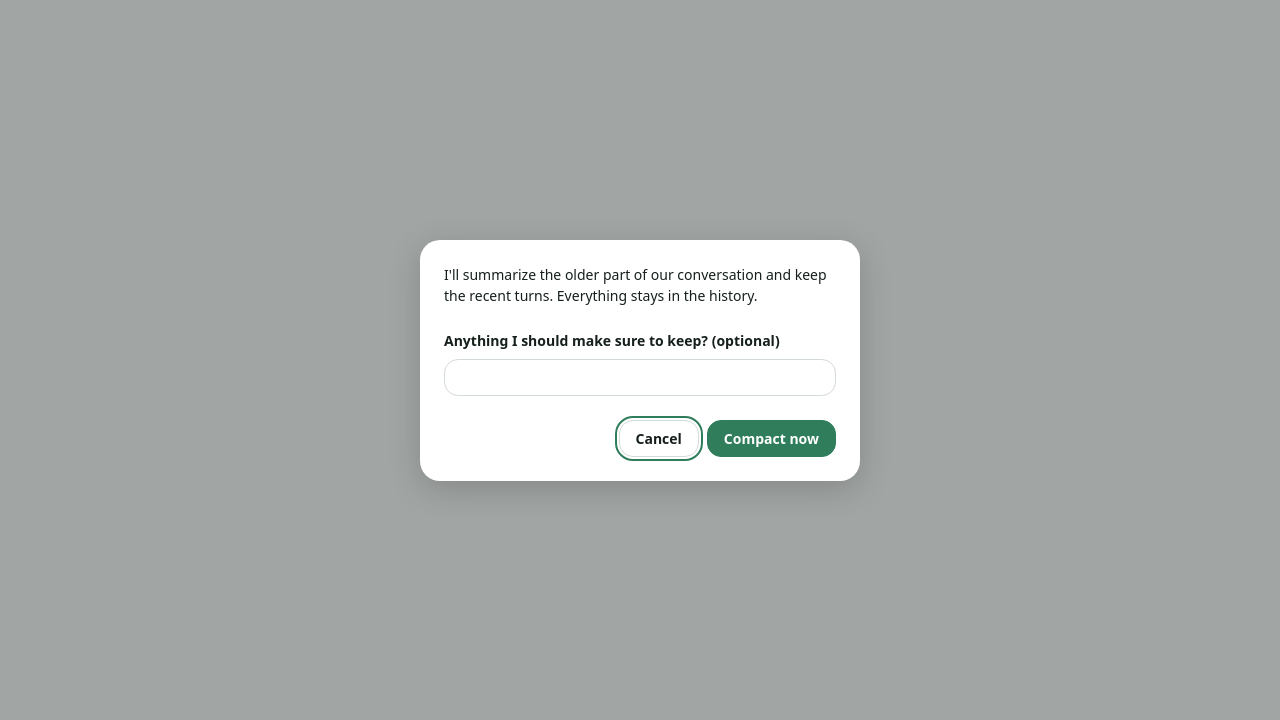
CompactNow › sends no note when none is typed, and says when there is nothing to compact or it failed
Click the button "Compact now" at (771, 438), box [707, 420, 836, 456]
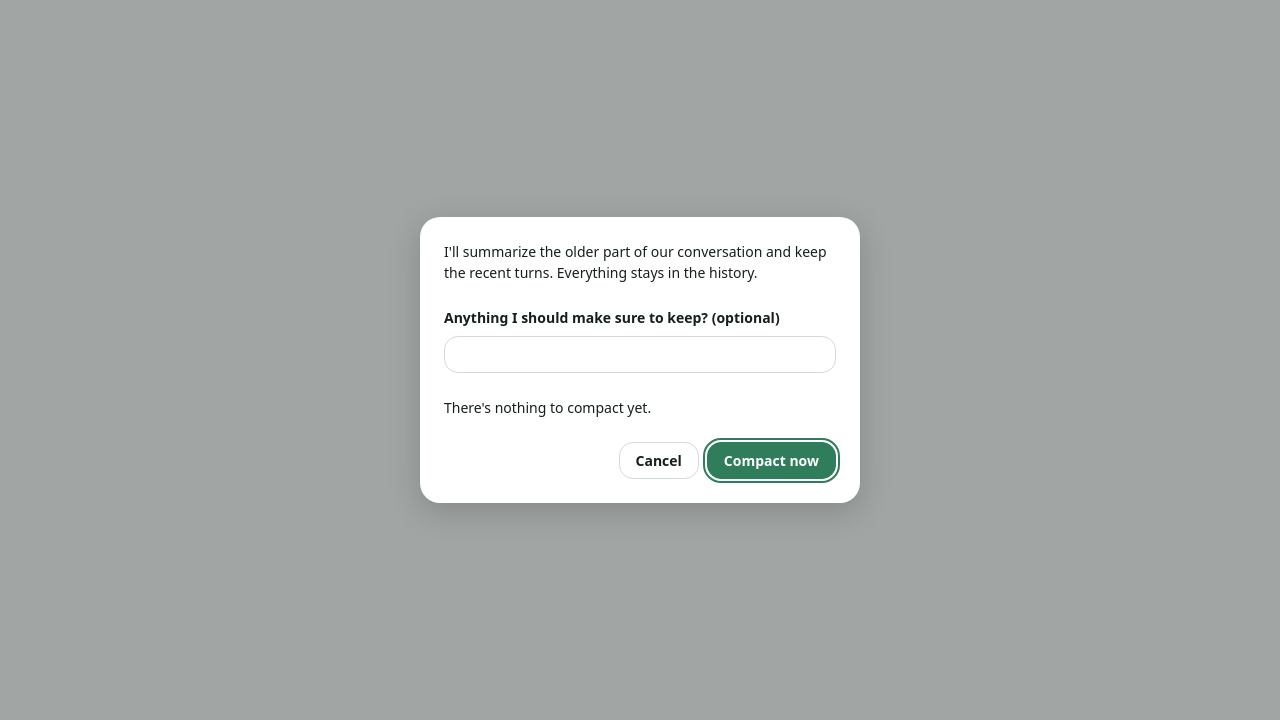
Now the message shows "nothing to compact yet", box [444, 398, 651, 417]
Click the button "Compact now" at (771, 460), box [707, 442, 836, 479]
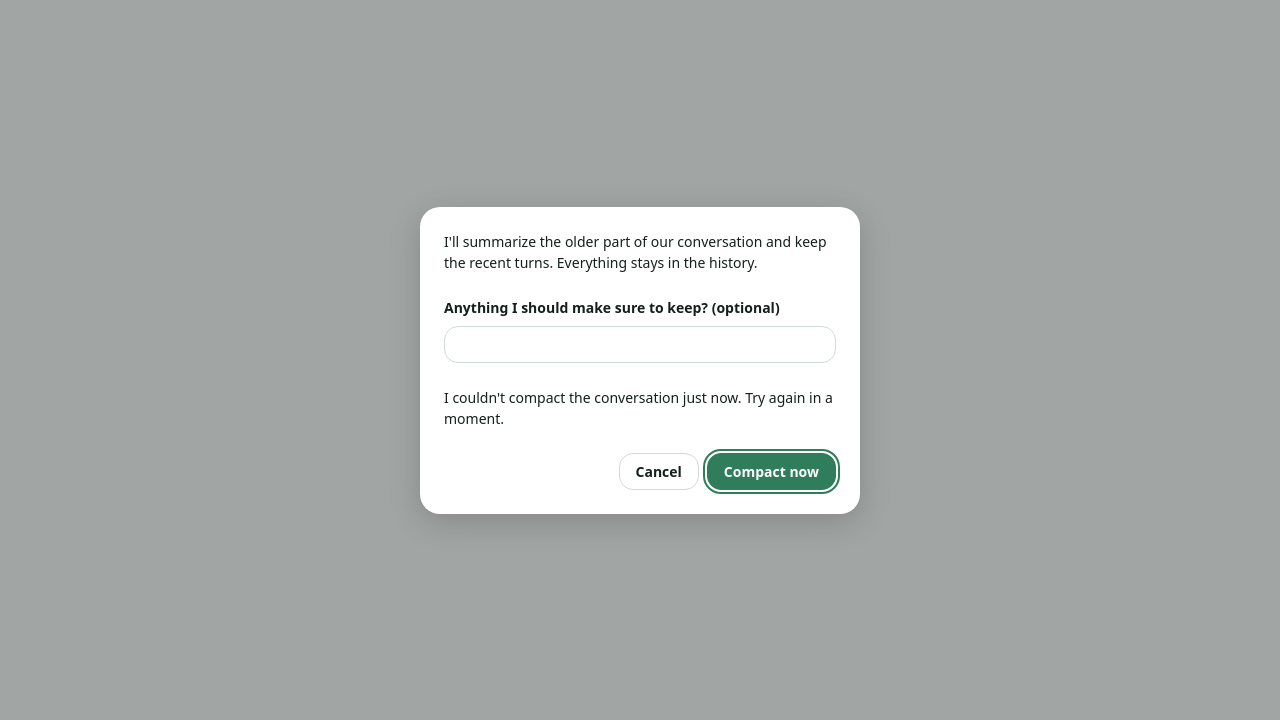
Now the message shows "couldn't compact", box [444, 388, 833, 428]
